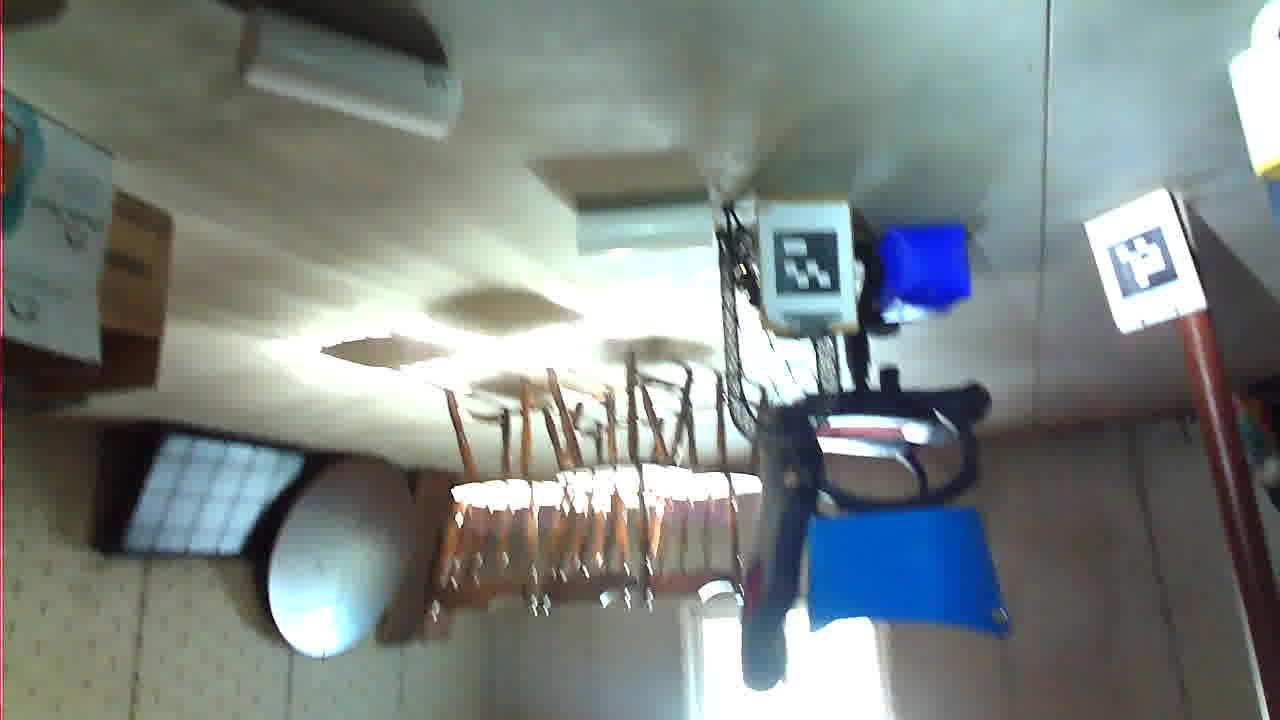coral: (817, 576, 1044, 714), (567, 463, 704, 520)
